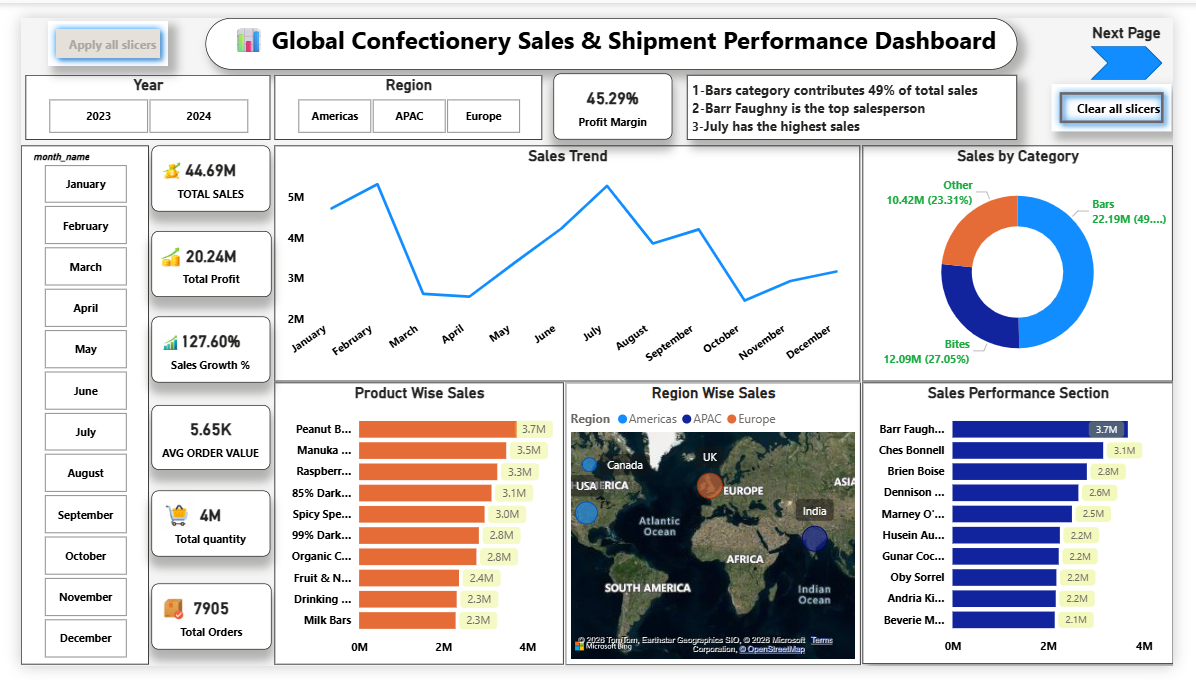

This screenshot's page, from the dashboard's own definition file:
{"tool":"powerbi","page":{"name":"Dashboard","canvas":[1280,720],"ordinal":0},"visuals":[{"type":"textbox","box":[205.2,0,901.9,57.3],"z":0},{"type":"card","fields":{"Values":["shipments.TOTAL SALES AMOUNT"]},"box":[145.3,142,132,73.3],"z":1000},{"type":"card","fields":{"Values":["shipments.AVG ORDER VALUE"]},"box":[145,430,131.7,71.7],"z":2000},{"type":"card","fields":{"Values":["shipments.Total Orders"]},"box":[145,628.3,133.3,73.3],"z":3000},{"type":"lineChart","title":"Sales Trend","fields":{"Y":["shipments.TOTAL SALES AMOUNT"],"Category":["calendar.month_name"]},"box":[281.8,141.8,650.8,262],"z":4000},{"type":"clusteredBarChart","title":"Product Wise Sales","fields":{"Category":["products.Product"],"Y":["shipments.TOTAL SALES"]},"box":[281.5,405.5,321.2,313.5],"z":5000},{"type":"map","title":"Region Wise Sales","fields":{"Series":["locations.Region"],"Size":["shipments.TOTAL SALES"],"Category":["locations.Geo"]},"box":[604.5,405.5,328,313.8],"z":6000},{"type":"clusteredBarChart","title":"Sales Performance Section","fields":{"Category":["people.Sales_person"],"Y":["shipments.TOTAL SALES"]},"box":[934.2,405.5,345.2,312.8],"z":7000},{"type":"slicer","fields":{"Values":["calendar.month_name"]},"box":[0,141.7,141.7,576.7],"z":8000},{"type":"card","fields":{"Values":["shipments.Sales Growth %"]},"box":[145,331.7,131.7,73.3],"z":9000},{"type":"donutChart","title":"Sales by Category","fields":{"Y":["shipments.TOTAL SALES"],"Category":["products.Category"]},"box":[934.2,142,344.5,261.8],"z":10000},{"type":"slicer","title":"Year","fields":{"Values":["calendar.year"]},"box":[5.3,63.3,272,72],"z":11000},{"type":"slicer","title":"Region","fields":{"Values":["locations.Region"]},"box":[281.3,63.3,297.3,72],"z":12000},{"type":"card","fields":{"Values":["shipments.Total Profit"]},"box":[145,236.7,133.3,73.3],"z":13000},{"type":"card","fields":{"Values":["shipments.Total quantity"]},"box":[145,525,131.7,73.3],"z":14000},{"type":"actionButton","box":[30,3.3,133.3,50],"z":15000},{"type":"actionButton","box":[1145.2,73.2,133.6,52.5],"z":16000},{"type":"actionButton","box":[1166.7,3.3,101.7,83.3],"z":17000},{"type":"shape","title":"Next Page","box":[1188.3,6.7,80,61.7],"z":18000},{"type":"card","fields":{"Values":["shipments.Profit Margin %"]},"box":[591.7,62,132,73.2],"z":19000},{"type":"image","box":[154.5,156.8,27.3,26.8],"z":20000},{"type":"image","box":[149.6,640.4,40,33.6],"z":21000},{"type":"image","box":[153.3,529.5,41.9,41],"z":22000},{"type":"image","box":[154.2,345,25,30.8],"z":23000},{"type":"image","box":[151.4,248.6,30,34.3],"z":24000},{"type":"textbox","box":[740,63.3,366.7,71.7],"z":25000}]}

Visuals, with their boxes in screenshot pixels (x1, y1, x2, y2), scaled from the page's 1280x720 canvas onto the 1196x680 screenshot:
textbox: <region>192, 0, 1034, 54</region>
card - shipments.TOTAL SALES AMOUNT: <region>136, 134, 259, 203</region>
card - shipments.AVG ORDER VALUE: <region>135, 406, 259, 474</region>
card - shipments.Total Orders: <region>135, 593, 260, 663</region>
"Sales Trend" lineChart: <region>263, 134, 871, 381</region>
"Product Wise Sales" clusteredBarChart: <region>263, 383, 563, 679</region>
"Region Wise Sales" map: <region>565, 383, 871, 679</region>
"Sales Performance Section" clusteredBarChart: <region>873, 383, 1195, 678</region>
slicer - calendar.month_name: <region>0, 134, 132, 678</region>
card - shipments.Sales Growth %: <region>135, 313, 259, 382</region>
"Sales by Category" donutChart: <region>873, 134, 1195, 381</region>
"Year" slicer: <region>5, 60, 259, 128</region>
"Region" slicer: <region>263, 60, 541, 128</region>
card - shipments.Total Profit: <region>135, 224, 260, 293</region>
card - shipments.Total quantity: <region>135, 496, 259, 565</region>
actionButton: <region>28, 3, 153, 50</region>
actionButton: <region>1070, 69, 1195, 119</region>
actionButton: <region>1090, 3, 1185, 82</region>
"Next Page" shape: <region>1110, 6, 1185, 65</region>
card - shipments.Profit Margin %: <region>553, 59, 676, 128</region>
image: <region>144, 148, 170, 173</region>
image: <region>140, 605, 177, 637</region>
image: <region>143, 500, 182, 539</region>
image: <region>144, 326, 167, 355</region>
image: <region>141, 235, 169, 267</region>
textbox: <region>691, 60, 1034, 128</region>
